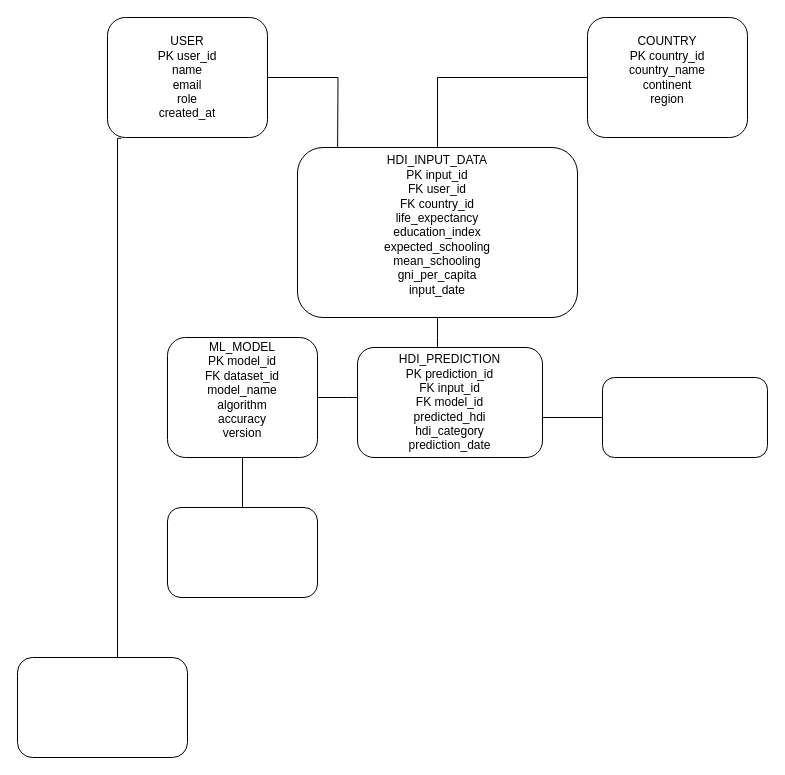
This 785x775 diagram has some shape labels left out. The shapes that lost their labels are listed below. From the top down, each one's centre as x and y in pixels, then its label:
At point (685, 417): "VISUALIZATION_REPORT PK report_id FK prediction_id report_type chart_name".
At point (242, 552): "DATASET PK dataset_id dataset_name source total_records".
At point (102, 707): "SESSION PK session_id FK user-id login_time logout_time ip_address".
